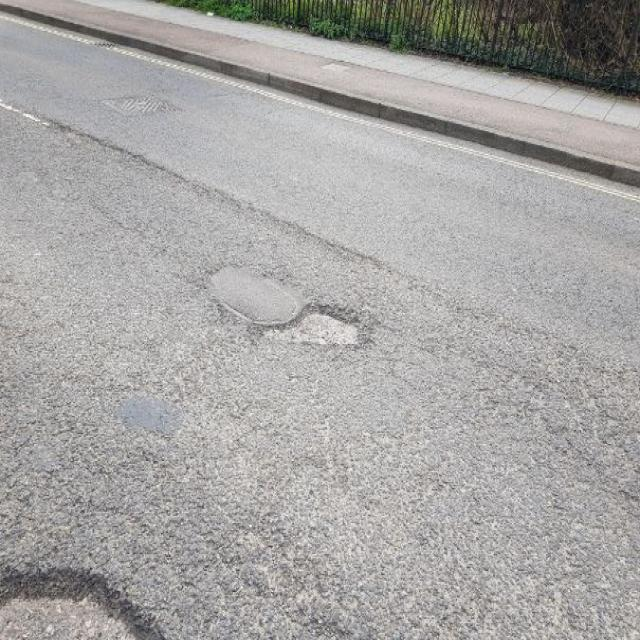Pothole: (1, 557, 169, 639), (255, 296, 371, 351)
